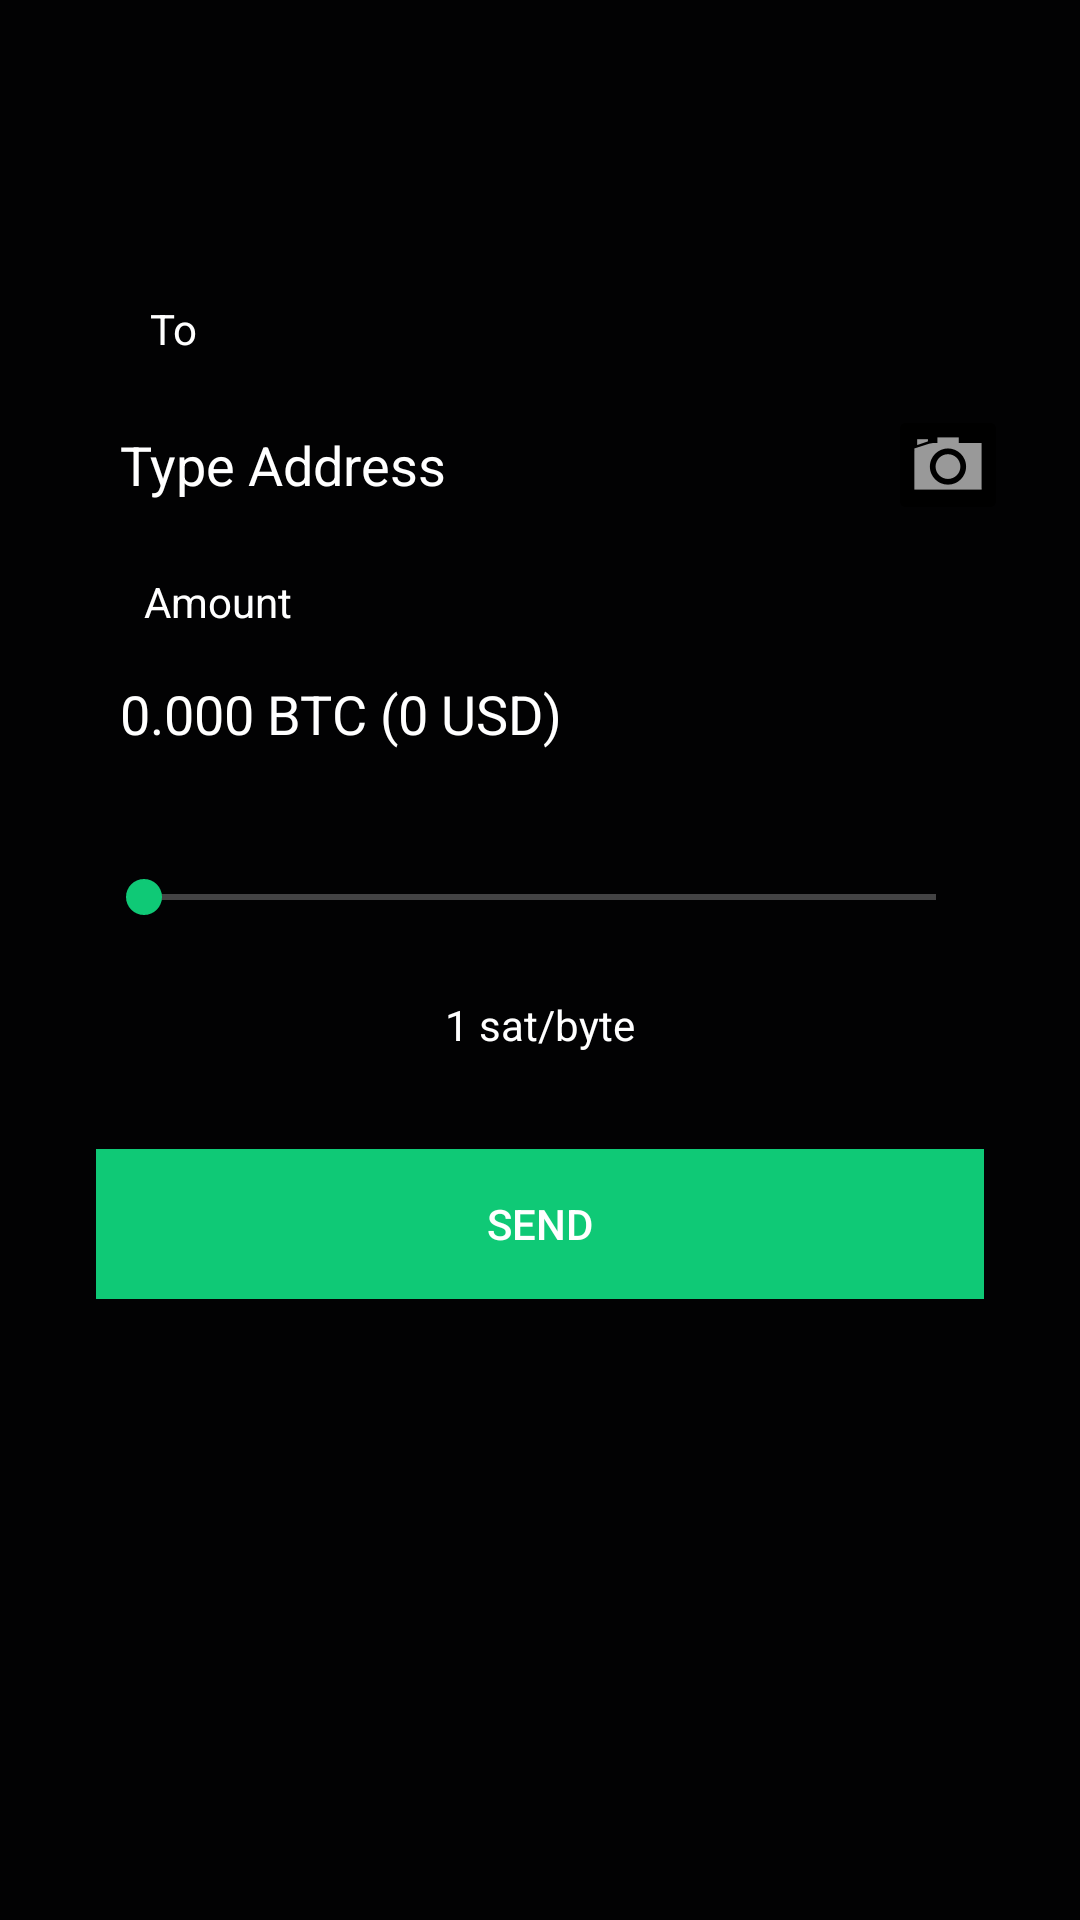

Screen size 1080x1920. Icon name, then its box in pixels as bbox(x1, y1, x2, y2):
camera: bbox(914, 437, 982, 490)
